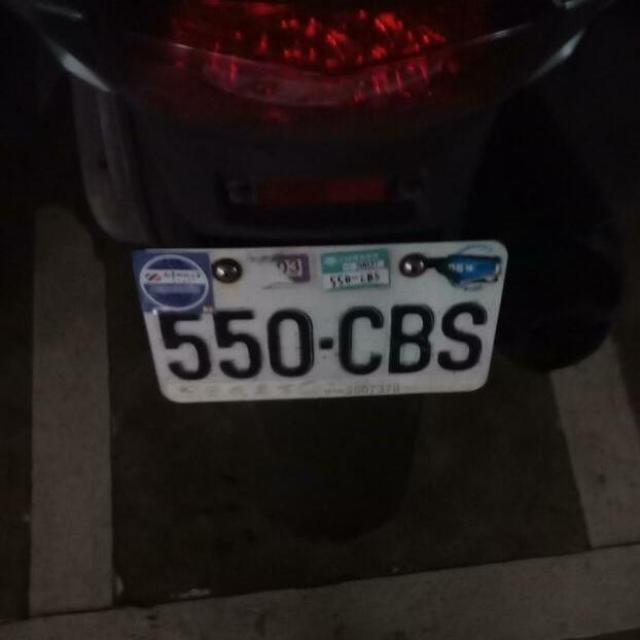W: (115, 210, 521, 425)
